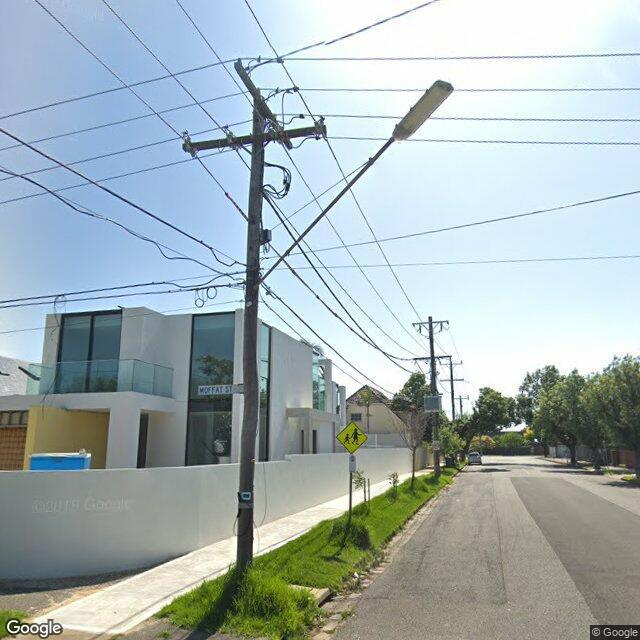HV-transmission: (412, 316, 449, 334), (439, 359, 464, 365)
crossarm: (234, 56, 322, 150), (182, 115, 330, 159), (414, 355, 452, 361), (412, 320, 449, 325), (440, 378, 464, 382), (440, 363, 462, 365)
streetlight: (256, 79, 454, 286)
timber-pole: (236, 96, 268, 575), (428, 316, 440, 476), (450, 358, 455, 420), (459, 395, 463, 414)
